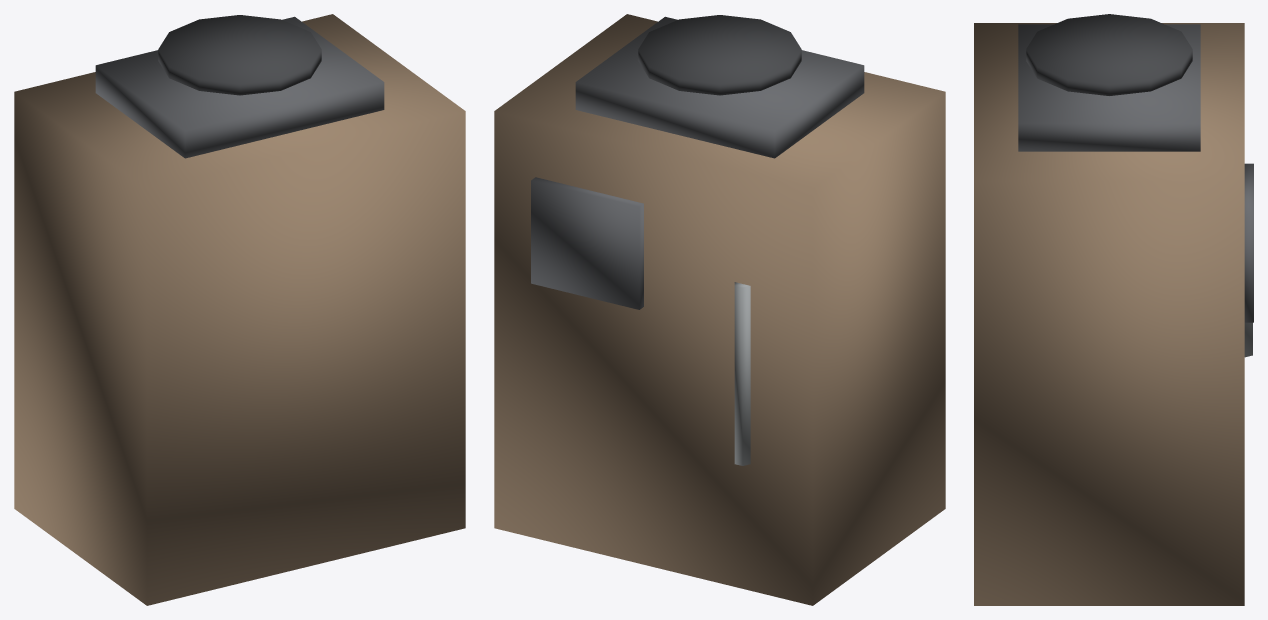
File: record_store_listening_station__service.glb
The picture shows the model from 3 angles, left to right: view 1: azimuth 30°, elevation 25°; view 2: azimuth 150°, elevation 25°; view 3: azimuth 270°, elevation 25°; orthographic projection.
Parts seen in each view (by area): view 1: world; view 2: world; view 3: world.
Boxes of the visible parts, x1,y1,x2,y2 form: world: [14, 14, 465, 605]; world: [494, 14, 945, 605]; world: [974, 14, 1253, 605].
Bounding box in the file's own units: 0.72 × 1.01 × 0.5375.
